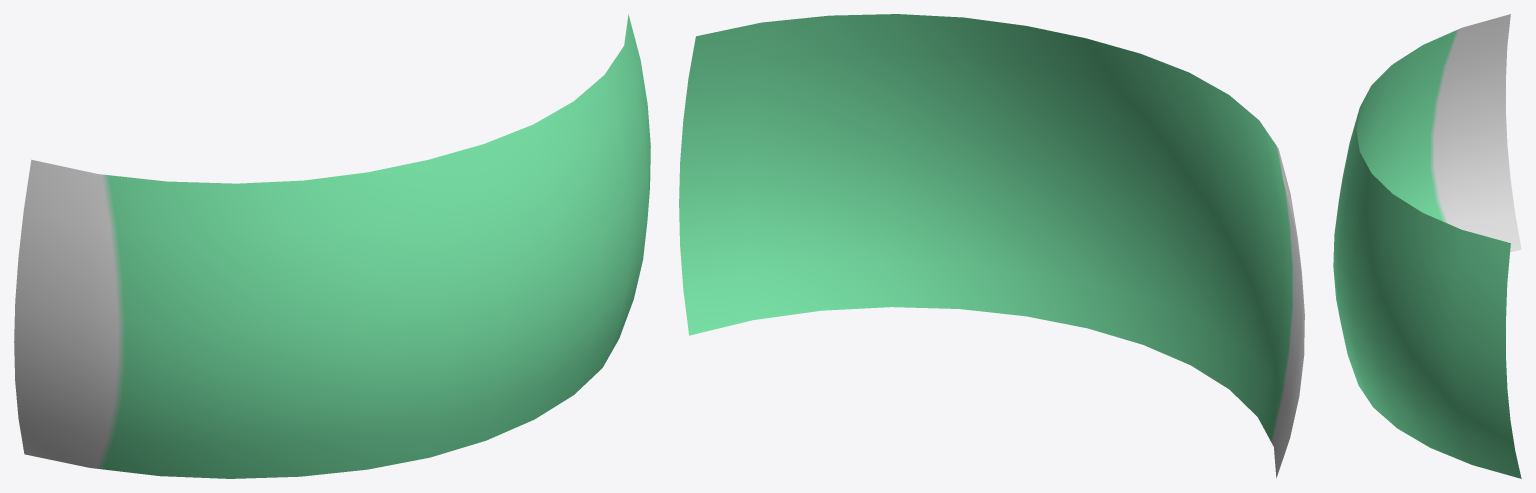
The model's file is Angry Robot Face.fbx.
The picture shows the model from 3 angles, left to right: view 1: azimuth 30°, elevation 25°; view 2: azimuth 150°, elevation 25°; view 3: azimuth 270°, elevation 25°; orthographic projection. The views are drawn at different scales.
Parts seen in each view (by area): view 1: Angry Robot; view 2: Angry Robot; view 3: Angry Robot.
Part boxes in pixels (<box>): Angry Robot: <box>14,14,650,478</box>; Angry Robot: <box>679,14,1304,478</box>; Angry Robot: <box>1333,14,1521,478</box>.
Size of the model in its own units: 55.82 by 25.13 by 18.19.
